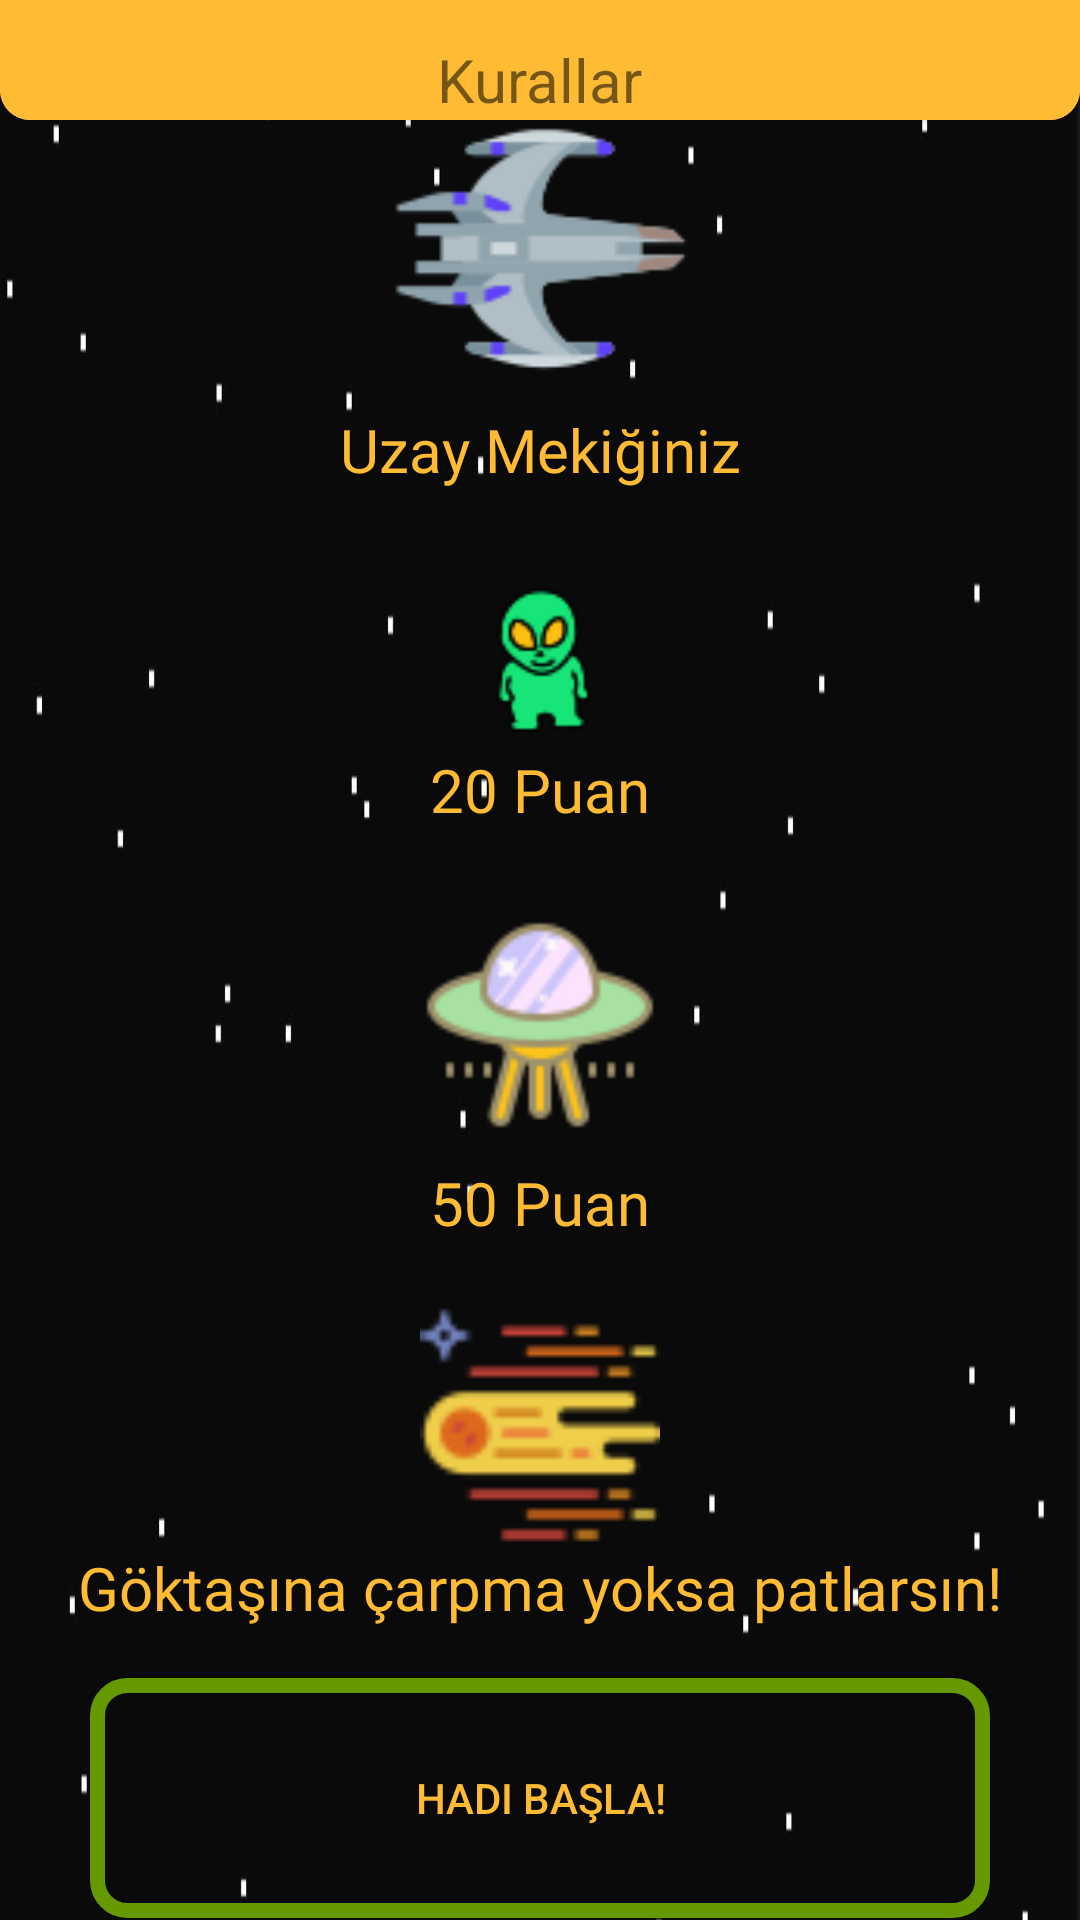

Screen size 1080*1920. Icon name, then its box in pixels as bbox=[x1, y1, x2, y2]:
alien: bbox=[498, 590, 588, 730]
comet: bbox=[420, 1309, 660, 1542]
ufo: bbox=[426, 922, 654, 1128]
